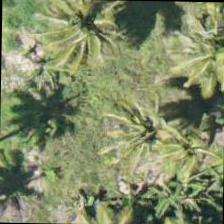Kelapa_Sawit: (103, 79, 195, 172), (34, 0, 126, 71), (160, 12, 223, 105)
